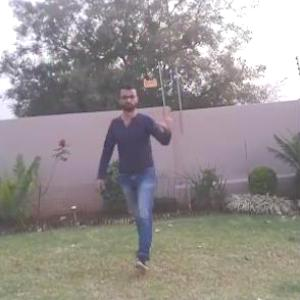follow_hand: (154, 105, 178, 132)
